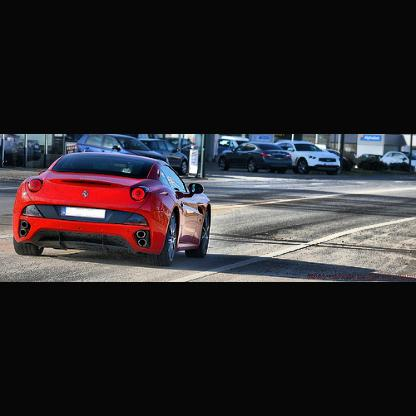Ferrari California Convertible 2012: (13, 152, 214, 268)
